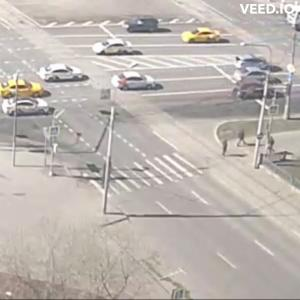car: (113, 72, 165, 92), (3, 97, 51, 118), (1, 80, 49, 100), (41, 64, 86, 84), (93, 39, 143, 57), (223, 85, 278, 99), (236, 55, 272, 75), (183, 28, 225, 44), (125, 19, 162, 36)
